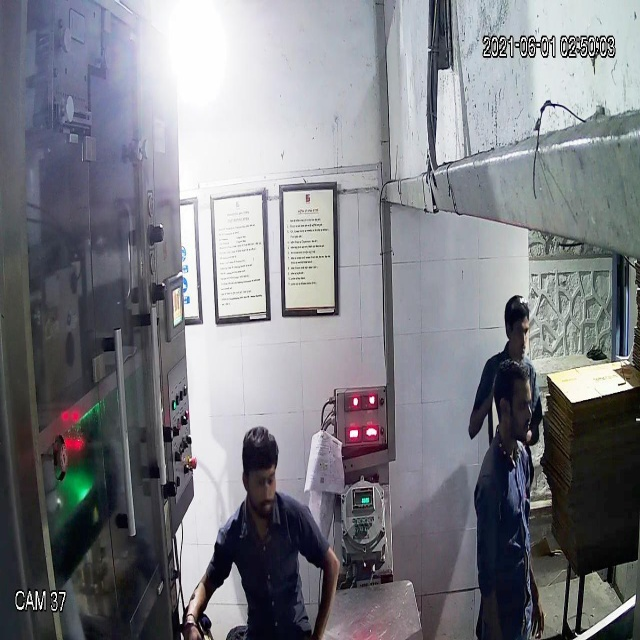Sin_gafas: (236, 461, 281, 498), (492, 389, 538, 425)
